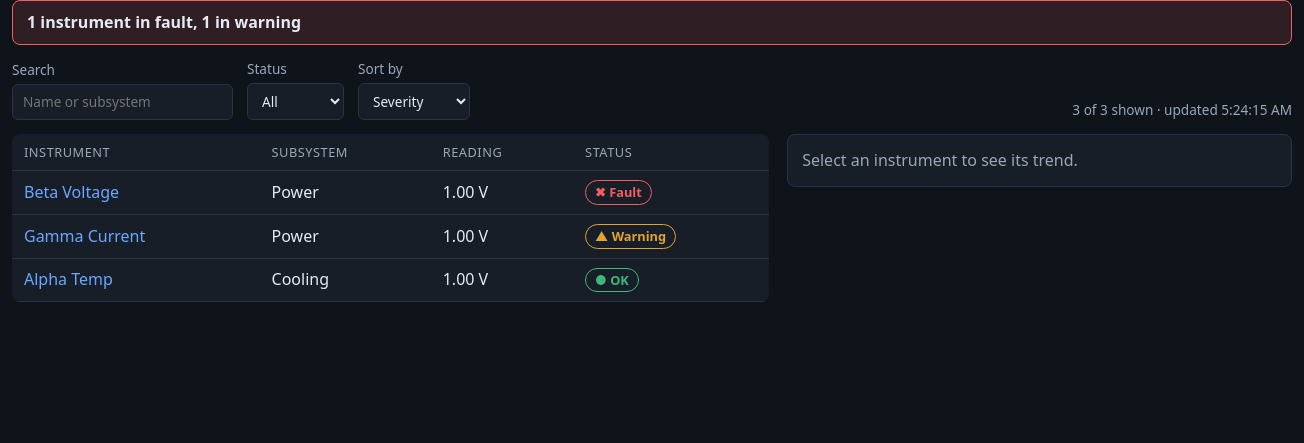
it: Dashboard › shows the trend for a selected instrument
This screenshot has width=1304, height=443.
Expected: the text "Select an instrument to see its trend." is shown, [802,149,1078,171]
Step 1. Click the button "Alpha Temp" → (68, 280), box [24,268,113,291]
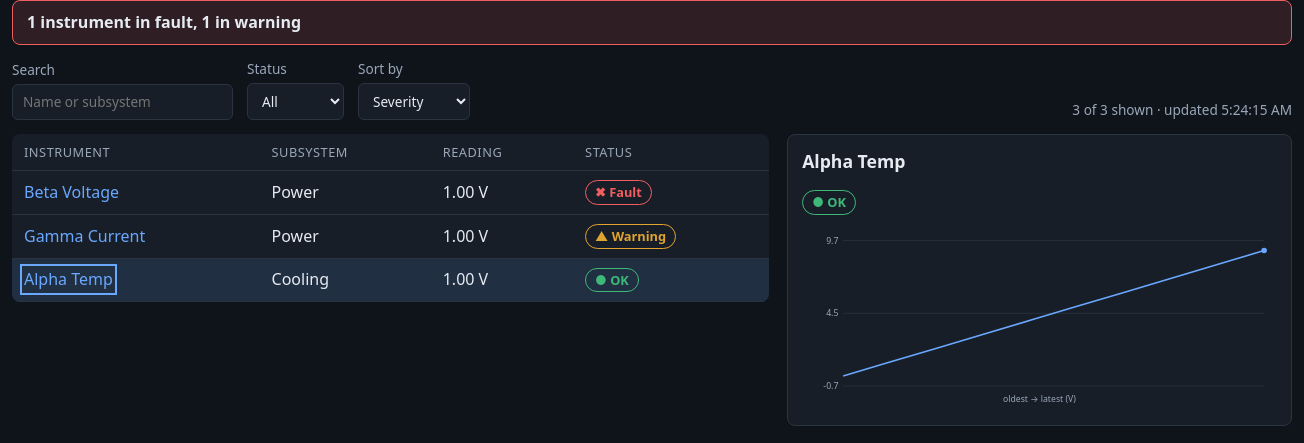
Now the element with test id "trend-chart" is shown, box [802,231,1277,411]
Now the heading "Alpha Temp" is shown, box [802,149,905,173]
